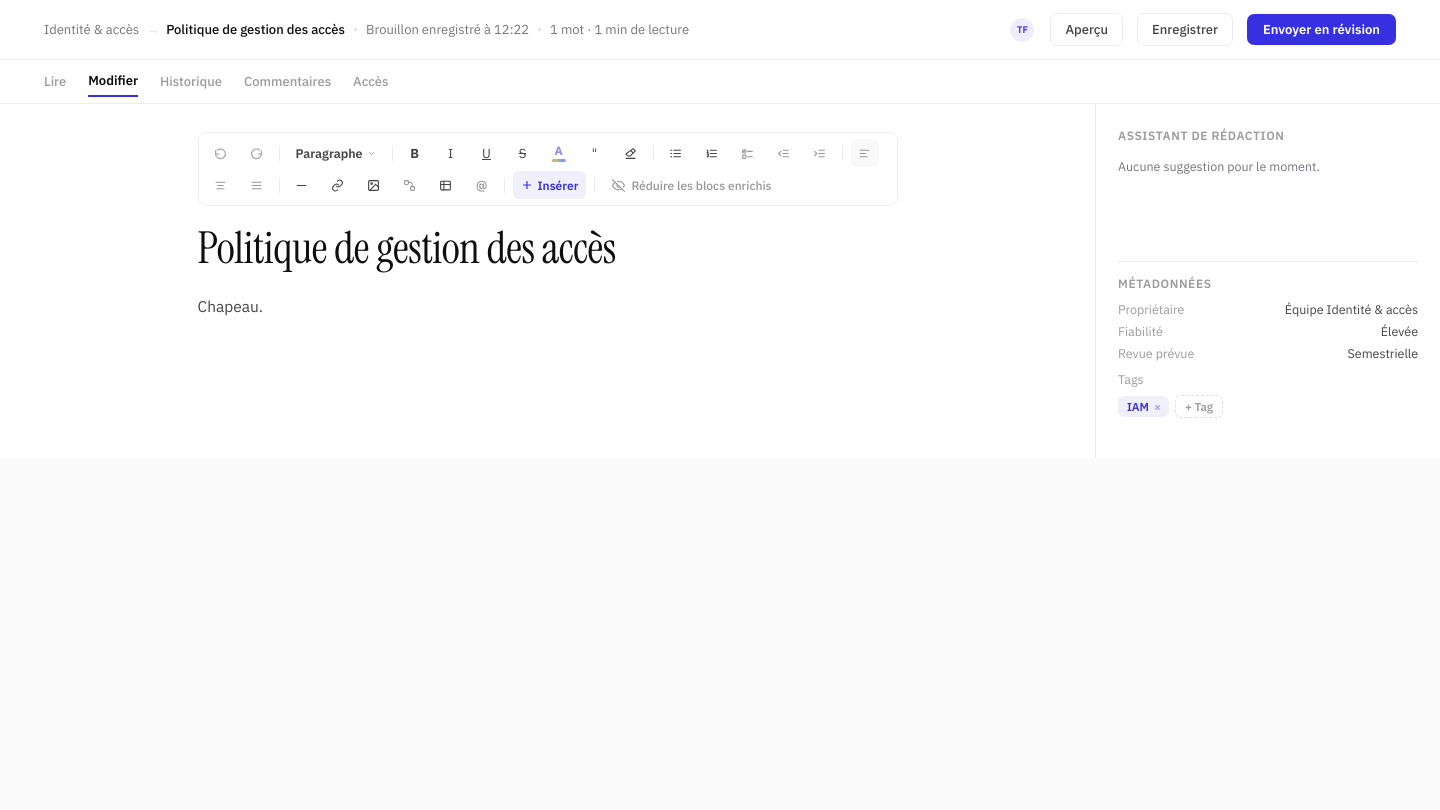
Test: DocumentEditPage — envoi en révision › affiche le vrai message d’erreur de l’API (quatre yeux)
Click the button with test id "edit-send-review".
click(1322, 30)  # box [1247,14,1396,45]
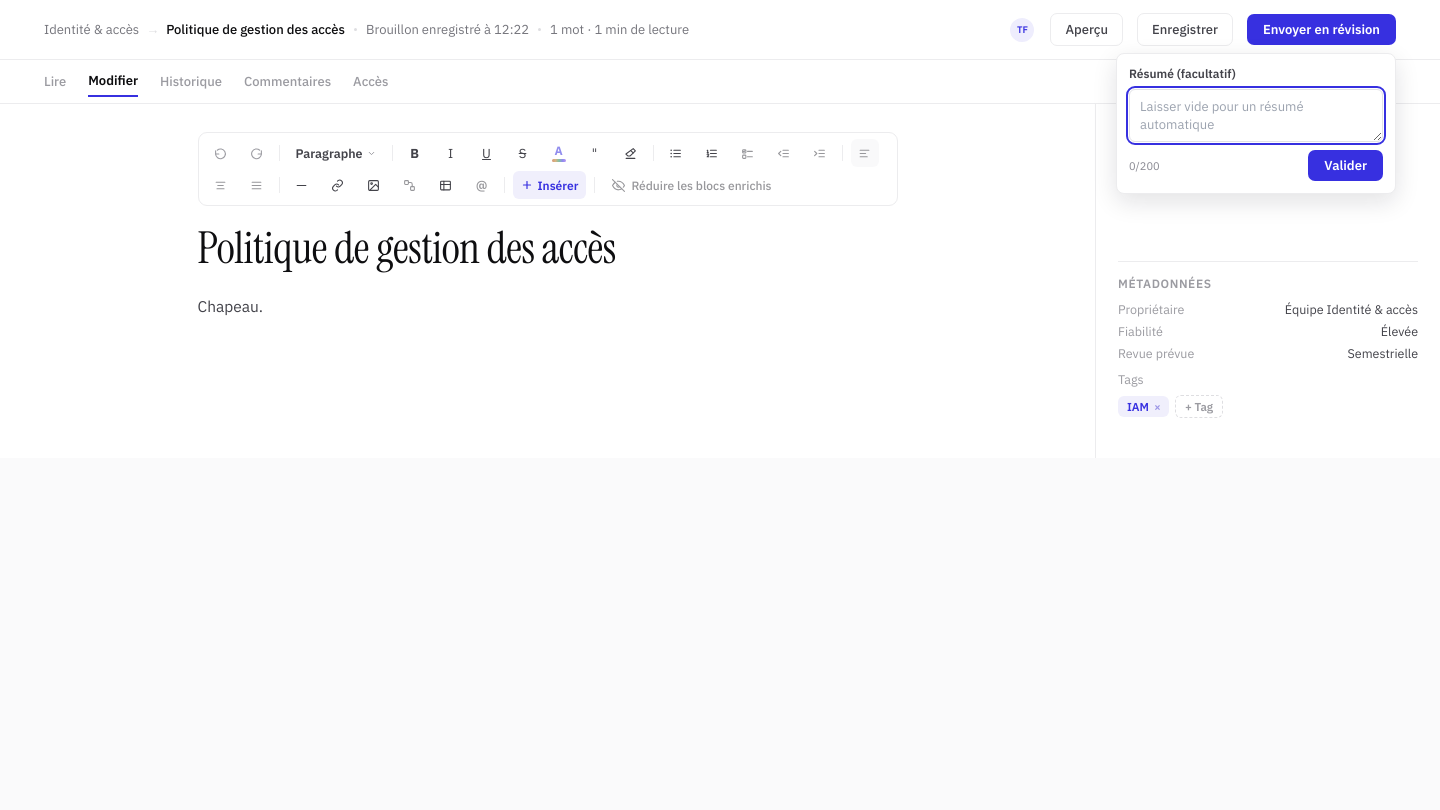
Click the button with test id "edit-send-review-confirm".
click(1346, 166)  # box [1308,150,1383,181]
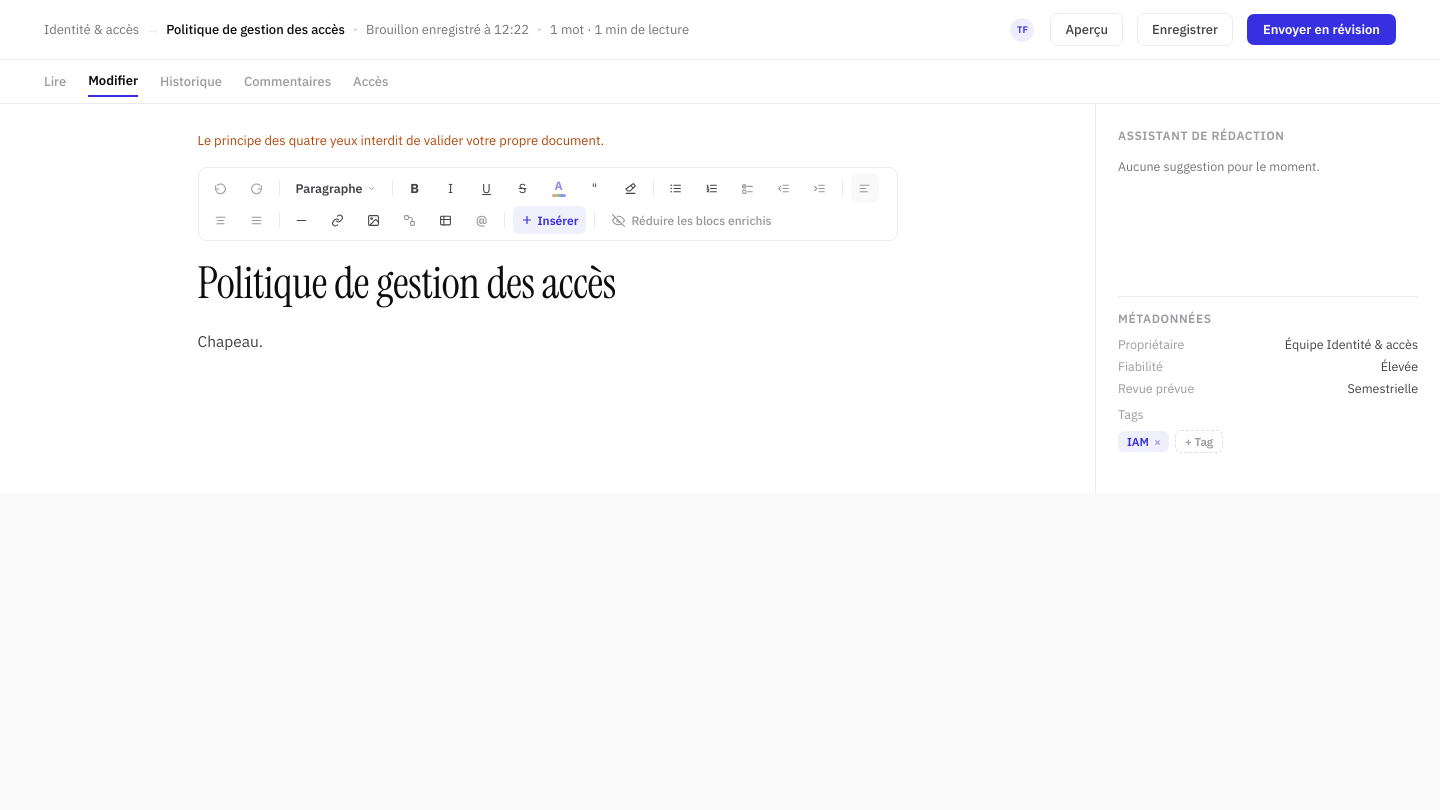
Expected: the message with test id "edit-approval-error" shows "quatre yeux", [198,132,604,149]
